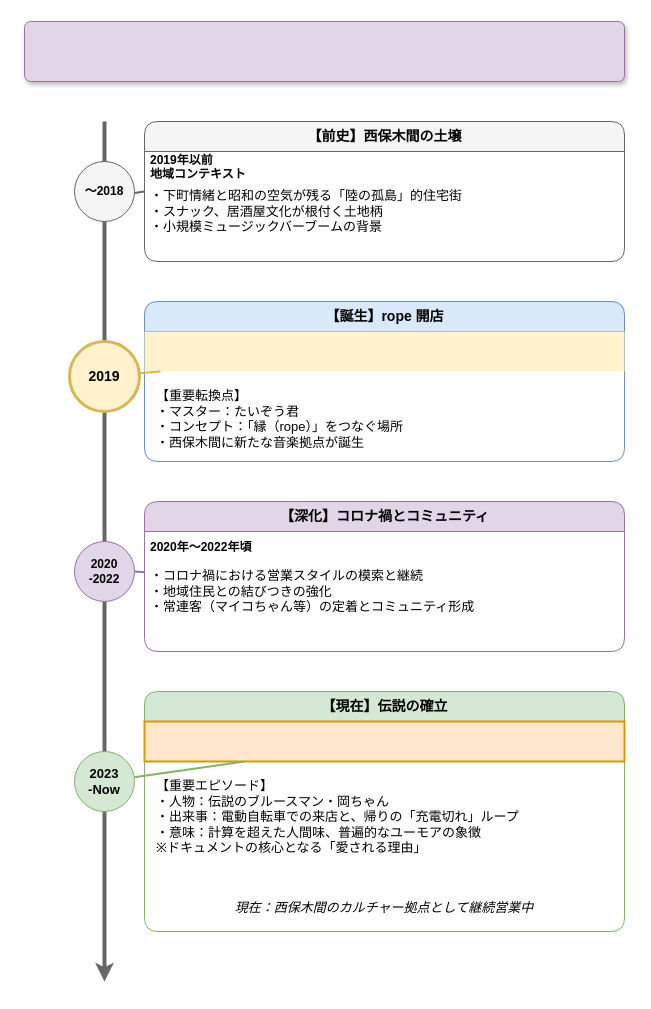
This 651x1009 diagram has some shape labels left out. Here are the shapes that lost their labels. From the top down, the centre of each, then its label:
the point at 325,52: 西保木間ミュージックバー rope 歴史ドキュメント構成案
the point at 384,351: Music Bar rope グランドオープン
the point at 384,741: 「岡ちゃん」伝説の確立
